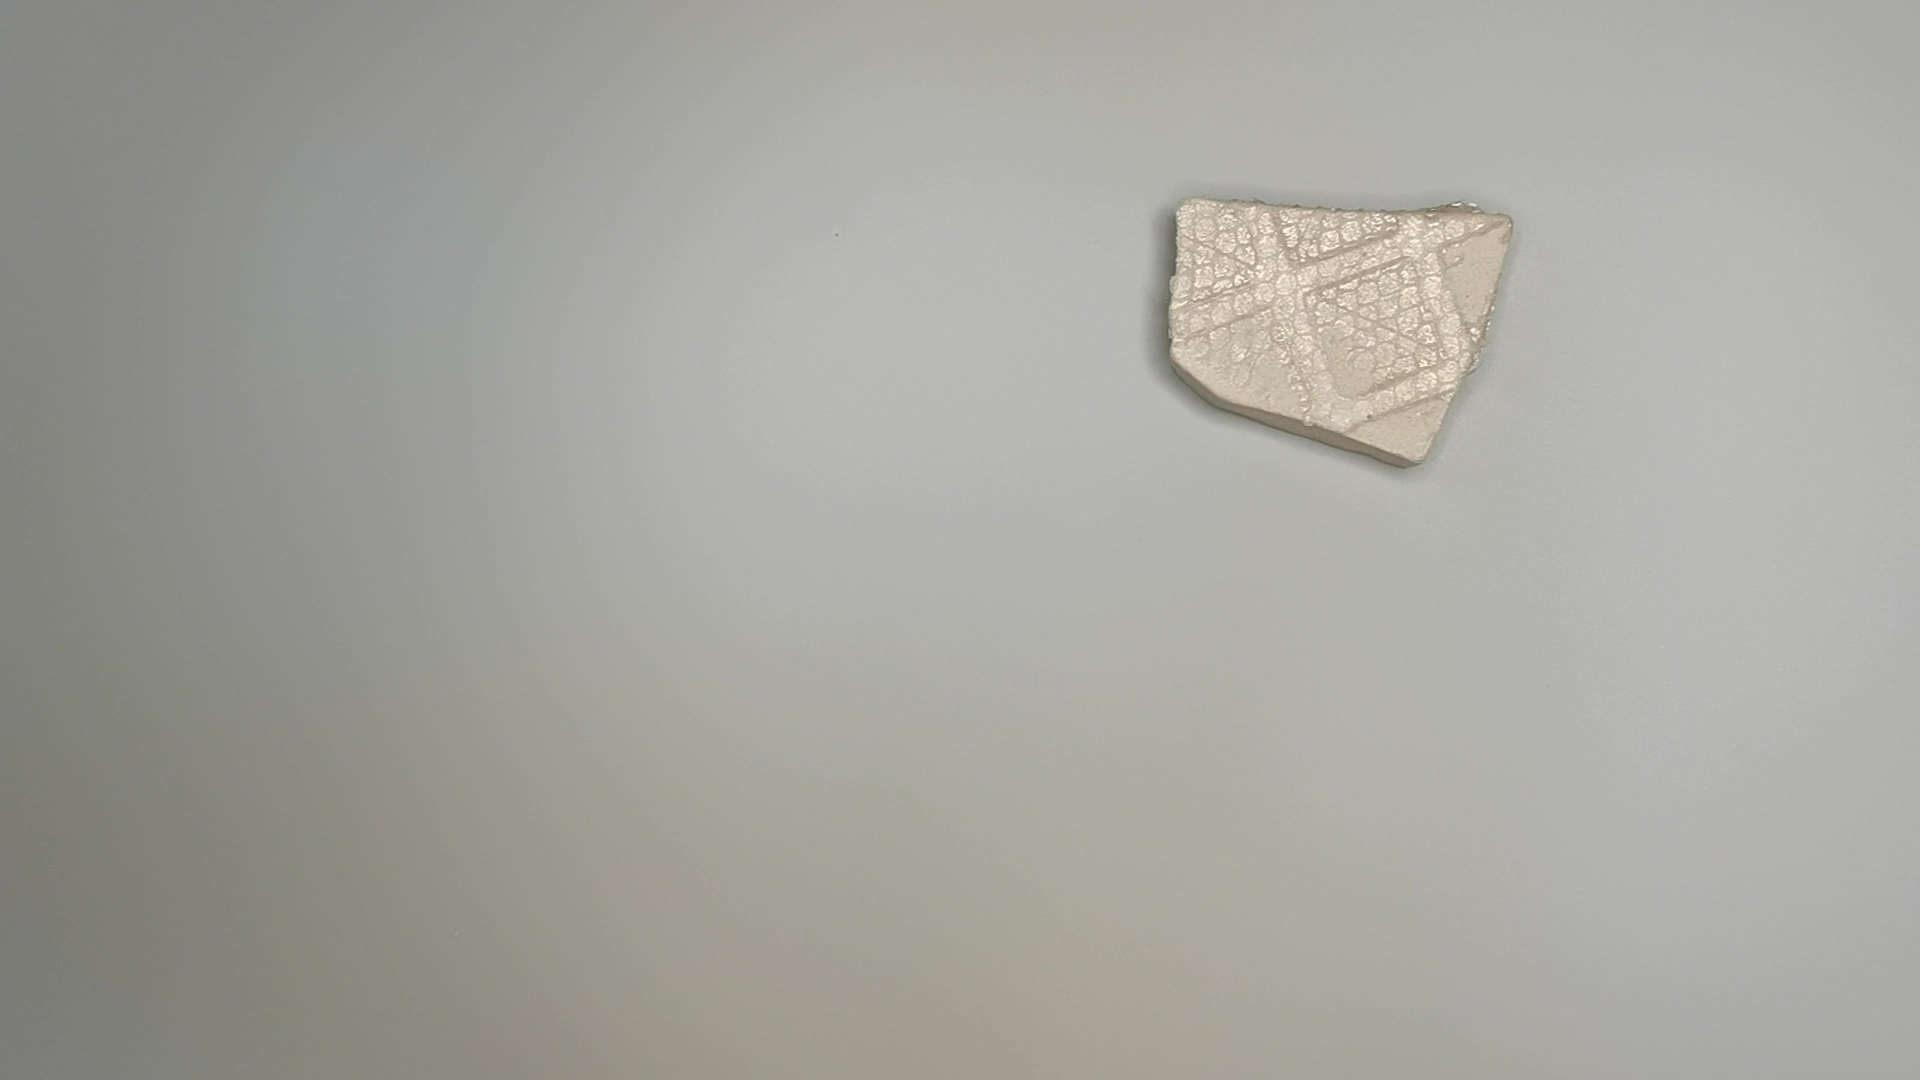ceramic: (1158, 191, 1528, 483)
